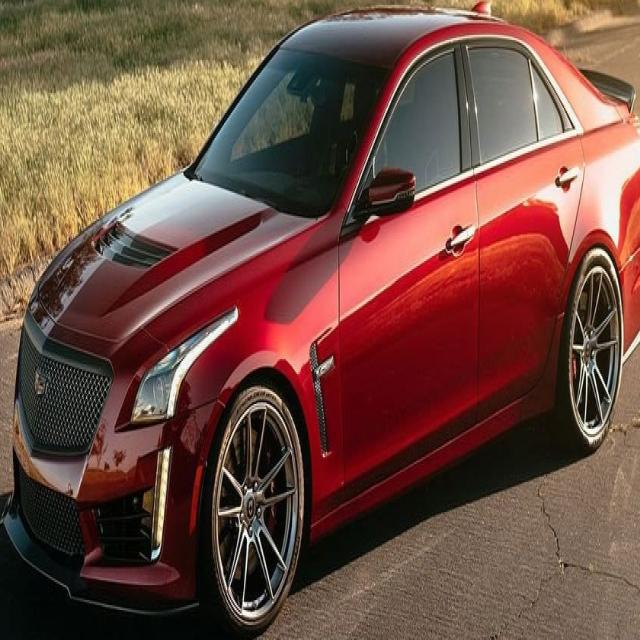maroon: (10, 9, 640, 631)
